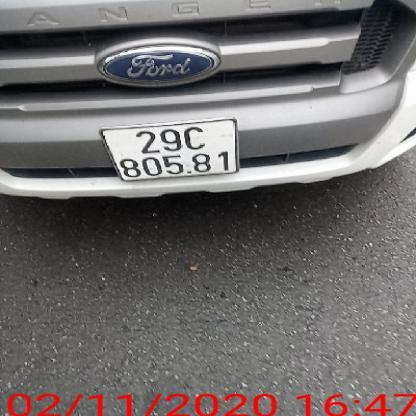biensoxe: (97, 118, 240, 183)
